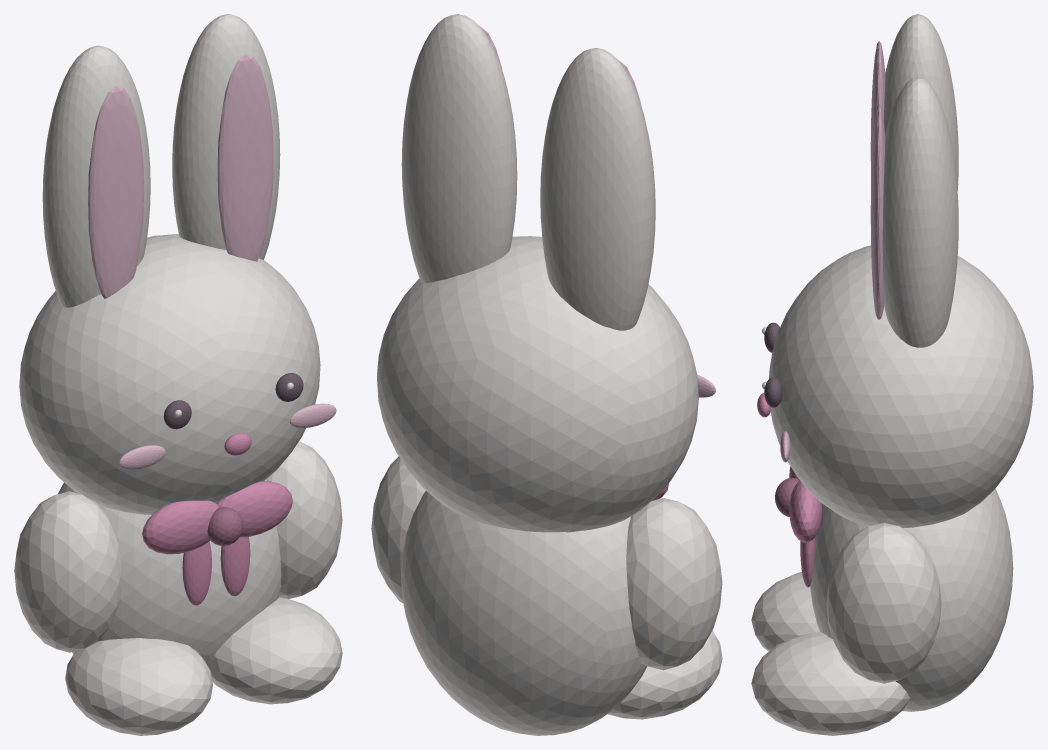
Rendered from bunny.glb.
3 renders of one model, left to right at view 1: azimuth 30°, elevation 25°; view 2: azimuth 150°, elevation 25°; view 3: azimuth 270°, elevation 25°, orthographic. The views are drawn at different scales.
Parts seen in each view (by area): view 1: head, body, arm-1, ear-1, ear1, foot-1, foot1, ear_inner-1, ear_inner1, arm1, bow_loop_-1, bow_loop_1 (+7 smaller); view 2: head, body, ear-1, ear1, arm-1, foot-1, arm1; view 3: head, ear1, body, arm1, foot1, ear-1, foot-1, ear_inner1, bow_loop_1, ear_inner-1, bow_tail_1, bow_knot.
Part boxes in pixels (left/top/right/bottom): head: left=19, top=234, right=320, bottom=514; body: left=58, top=479, right=281, bottom=664; arm-1: left=14, top=491, right=121, bottom=652; ear-1: left=42, top=45, right=150, bottom=307; ear1: left=172, top=14, right=280, bottom=259; foot-1: left=65, top=638, right=212, bottom=735; foot1: left=207, top=597, right=342, bottom=704; ear_inner-1: left=88, top=85, right=143, bottom=298; ear_inner1: left=217, top=54, right=273, bottom=261; arm1: left=266, top=441, right=342, bottom=598; bow_loop_-1: left=142, top=500, right=219, bottom=554; bow_loop_1: left=216, top=481, right=292, bottom=537; head: left=377, top=236, right=698, bottom=532; body: left=401, top=491, right=646, bottom=735; ear-1: left=540, top=48, right=655, bottom=330; ear1: left=401, top=14, right=517, bottom=282; arm-1: left=626, top=498, right=722, bottom=670; foot-1: left=607, top=631, right=722, bottom=719; arm1: left=371, top=456, right=425, bottom=602; head: left=769, top=245, right=1033, bottom=527; ear1: left=882, top=77, right=958, bottom=347; body: left=810, top=488, right=1013, bottom=711; arm1: left=826, top=523, right=941, bottom=683; foot1: left=751, top=632, right=910, bottom=735; ear-1: left=883, top=14, right=958, bottom=190; foot-1: left=751, top=572, right=819, bottom=651; ear_inner1: left=870, top=104, right=885, bottom=319; bow_loop_1: left=789, top=480, right=822, bottom=542; ear_inner-1: left=870, top=41, right=885, bottom=180; bow_tail_1: left=800, top=537, right=815, bottom=587; bow_knot: left=775, top=478, right=799, bottom=516.
Size of the model in its own units: 1.06 by 2.12 by 0.83.
